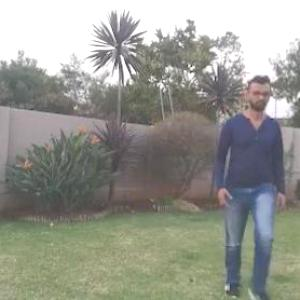follow: (223, 78, 283, 285)
